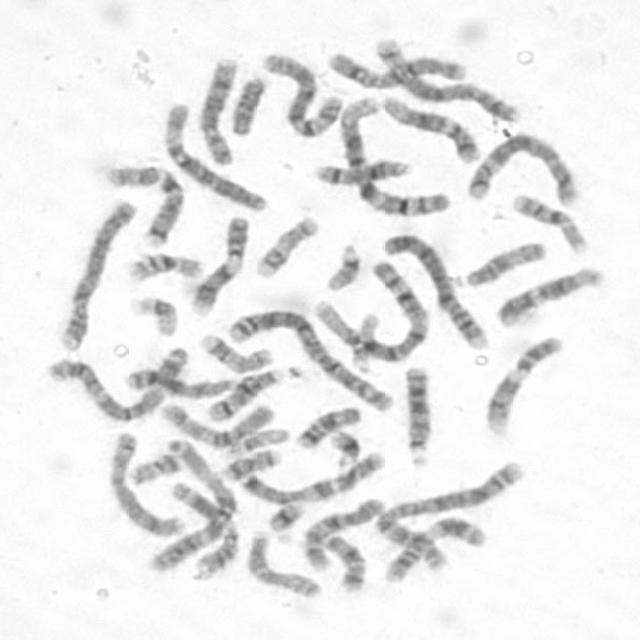A1: (331, 90, 453, 218), (309, 251, 432, 366)
A2: (377, 454, 528, 587), (223, 302, 400, 413)
A3: (143, 431, 238, 576), (41, 338, 190, 423)
B4: (378, 225, 493, 351), (50, 192, 136, 352)
B5: (370, 32, 520, 124), (460, 126, 582, 207)
C10: (296, 491, 387, 573), (153, 396, 278, 449)
C11: (377, 510, 491, 585), (166, 476, 243, 580)
C12: (374, 88, 482, 164), (490, 259, 607, 328)
C6: (154, 96, 270, 212), (255, 45, 344, 138)
C7: (232, 446, 387, 505), (97, 157, 186, 249)
C8: (103, 425, 186, 538), (190, 51, 240, 166)
C9: (479, 329, 566, 436), (181, 210, 252, 316)
D13: (119, 362, 236, 401), (399, 360, 436, 468)
D14: (200, 361, 302, 424), (308, 152, 413, 188)
D15: (241, 525, 325, 601), (454, 234, 549, 289)
E16: (507, 187, 590, 254), (120, 246, 205, 284)
E17: (248, 209, 320, 280), (192, 327, 274, 374)
E18: (291, 400, 364, 450), (316, 528, 368, 594)
F19: (123, 289, 180, 339), (344, 306, 384, 372)
F20: (215, 442, 283, 482), (123, 447, 183, 487)
G21: (261, 495, 307, 540), (322, 422, 363, 470)
G22: (218, 421, 292, 458), (319, 237, 363, 292)
X: (323, 47, 468, 90)
Y: (223, 70, 270, 138)
